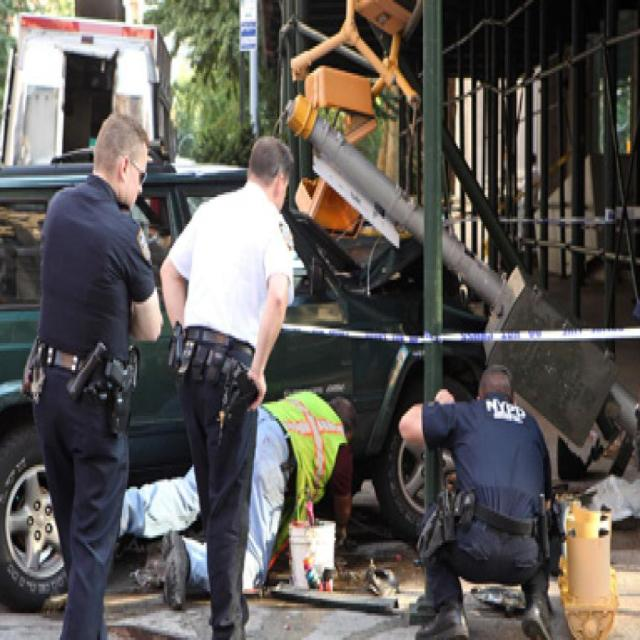body: (18, 110, 168, 639), (156, 132, 299, 639), (117, 388, 359, 612), (395, 359, 565, 639)
